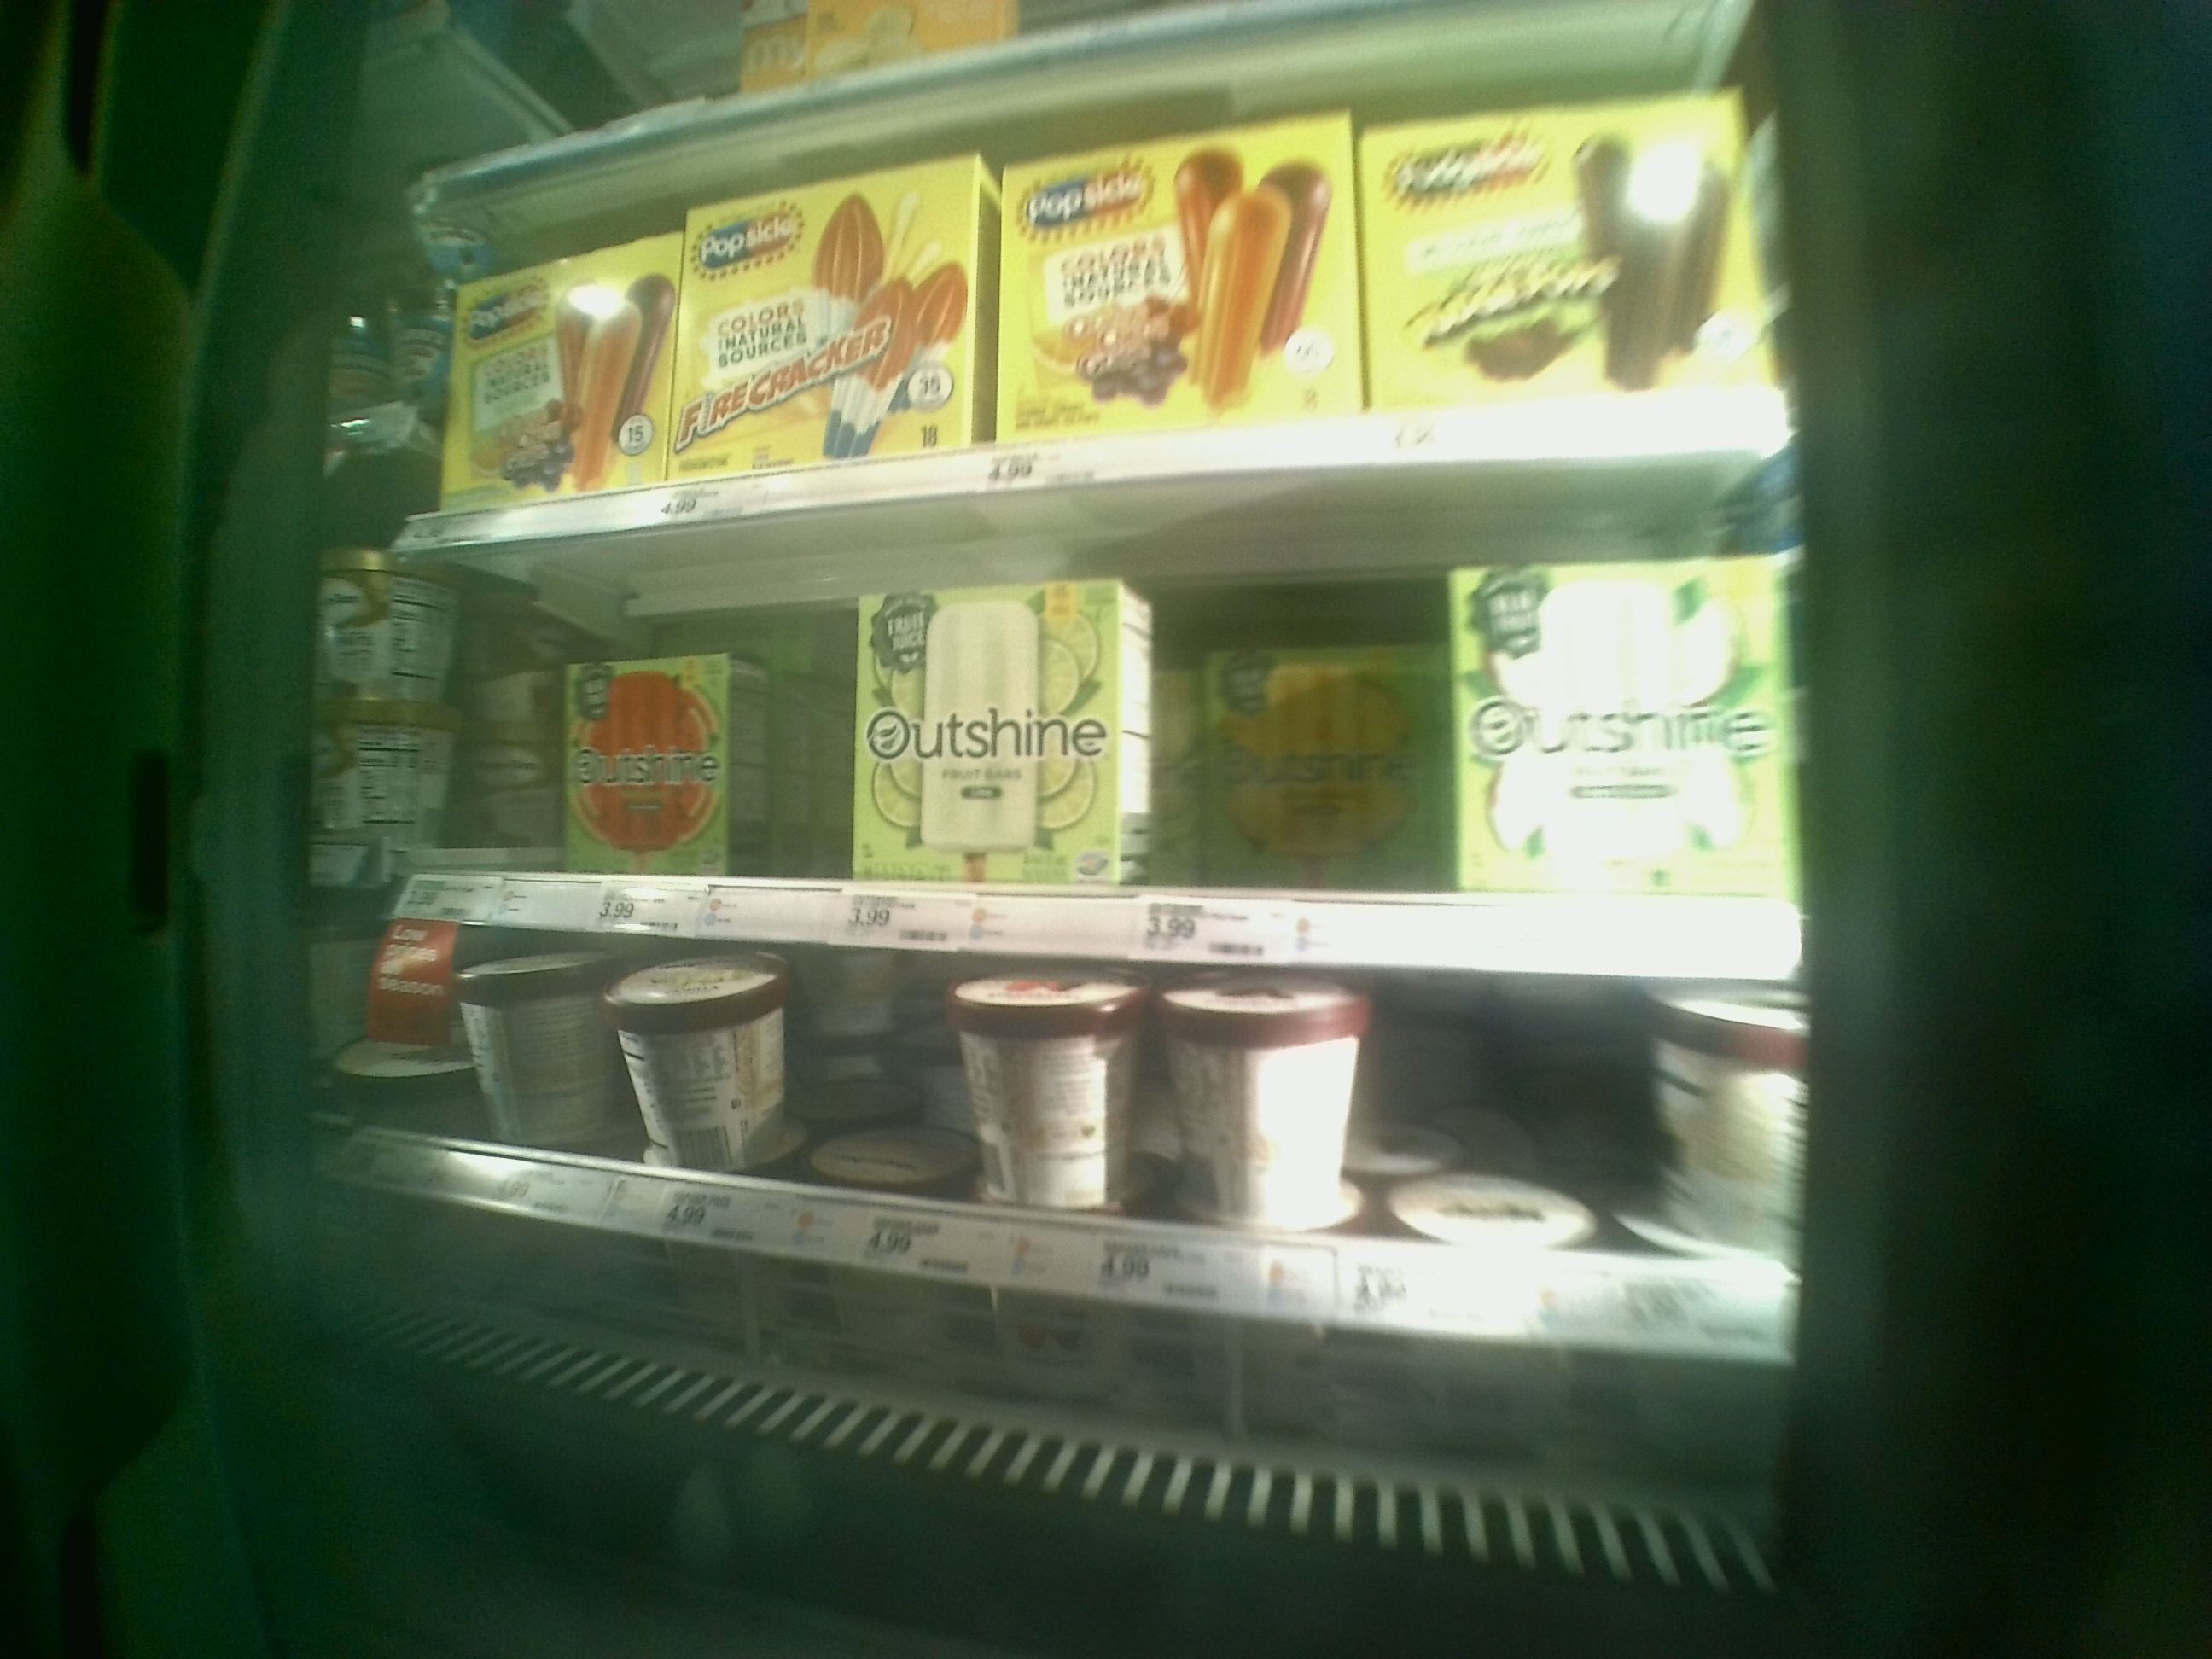shelf: (376, 927, 1810, 1493), (399, 462, 1801, 983)
